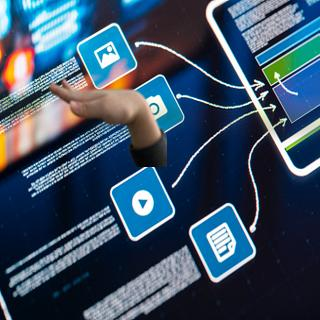Wait: (43, 74, 151, 130)
